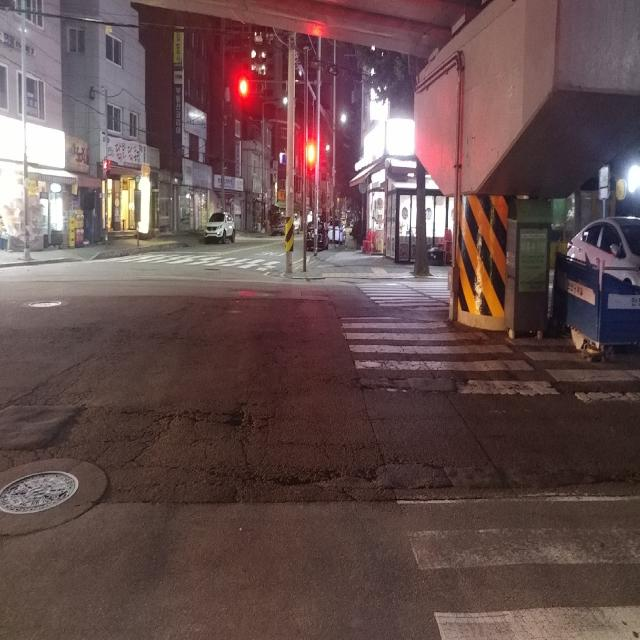빨간불: (140, 246, 278, 273), (306, 145, 317, 179)
횡단보도: (340, 281, 640, 640)
